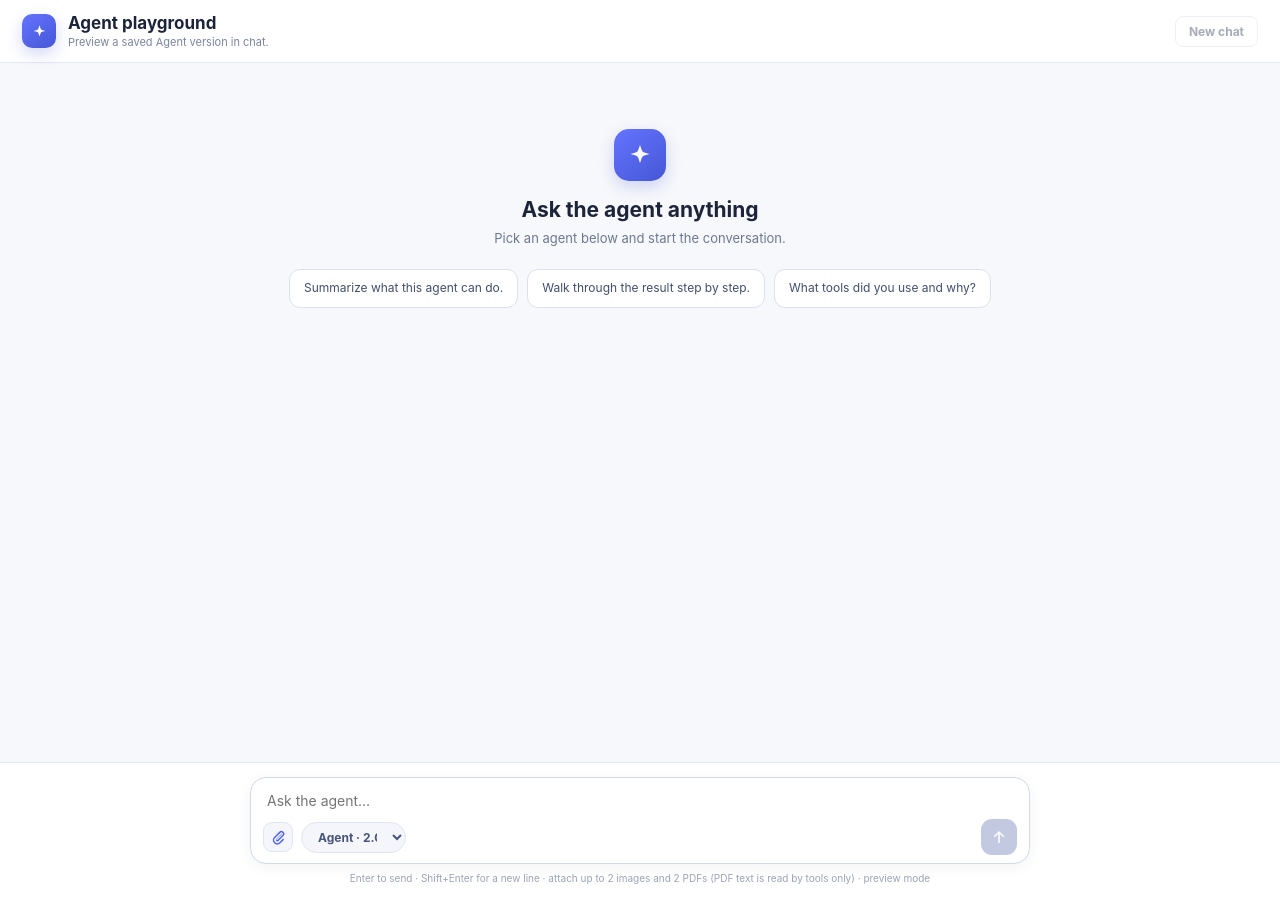
Test: ChatPage › 正常: 応答本文のMarkdownの表（| a | b |）は表として描かれる
Type "hello" into the text box named "Chat message".
click(640, 800); type("hello")  # box [263,788,1017,813]
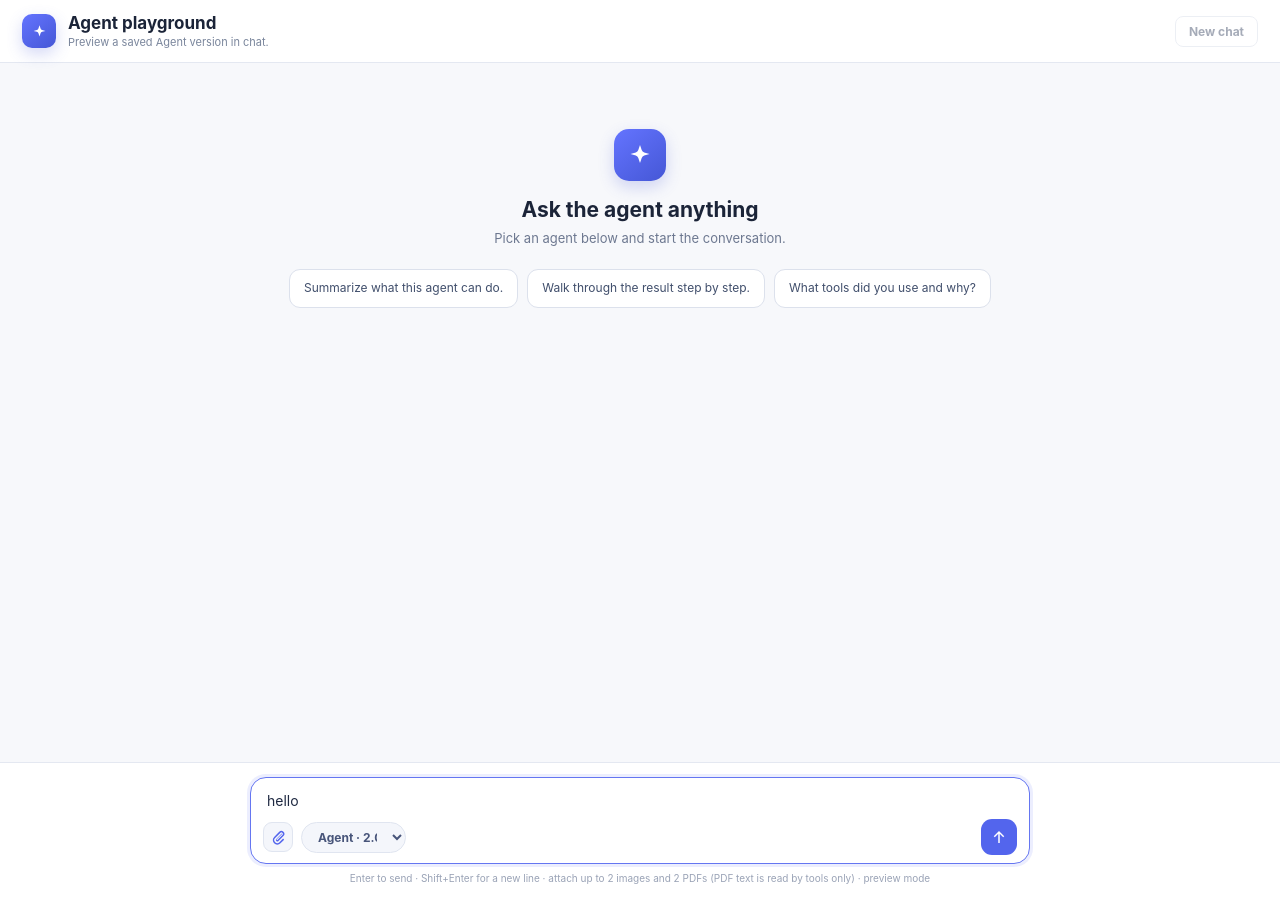
Click the button named "Send".
click(999, 837)  # box [981,819,1017,855]
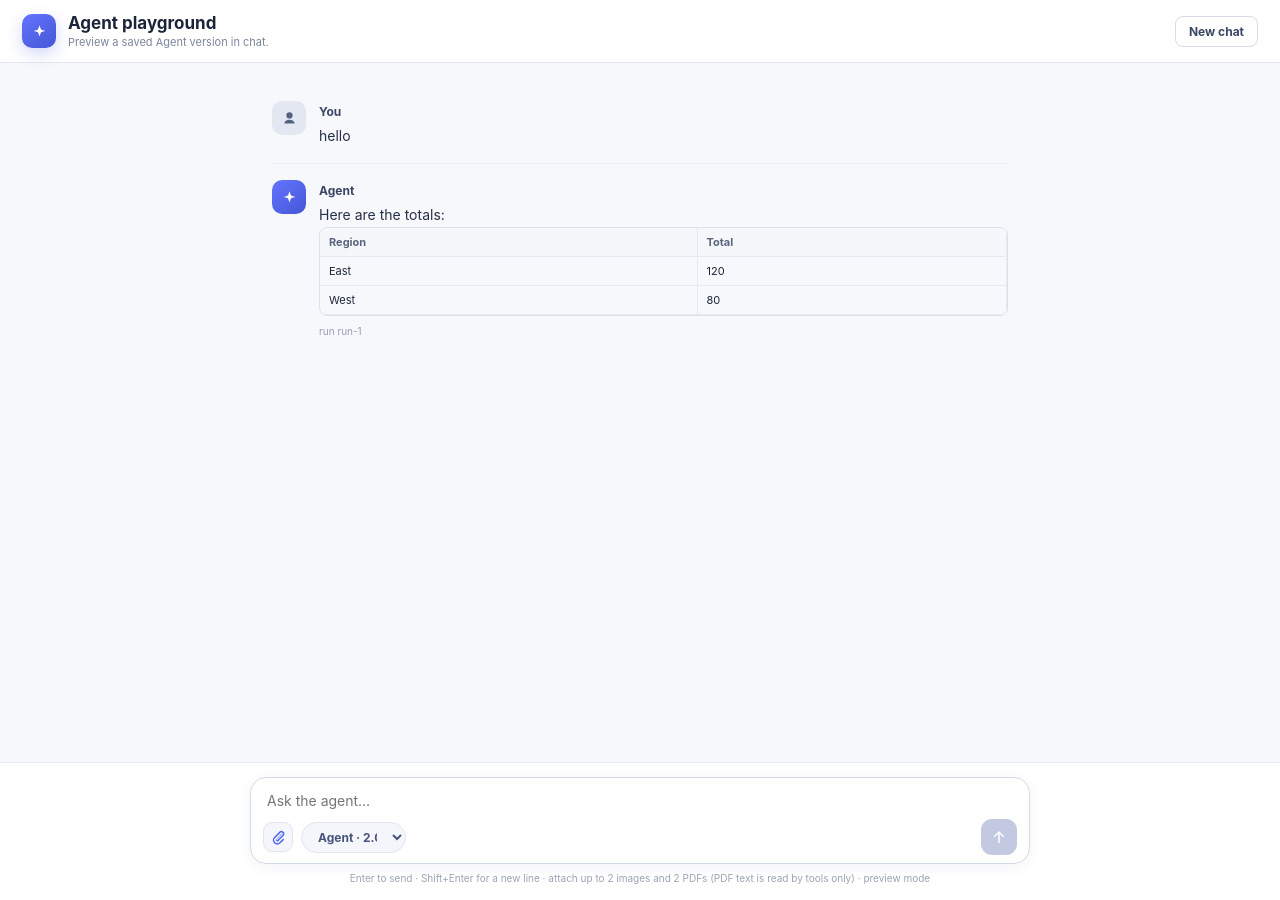
Result: the column headings read "Region", "Total", in this order at [320,228,697,256]; [697,228,1006,256]
Result: the text "East" reads "East 120" at [320,256,1006,285]
